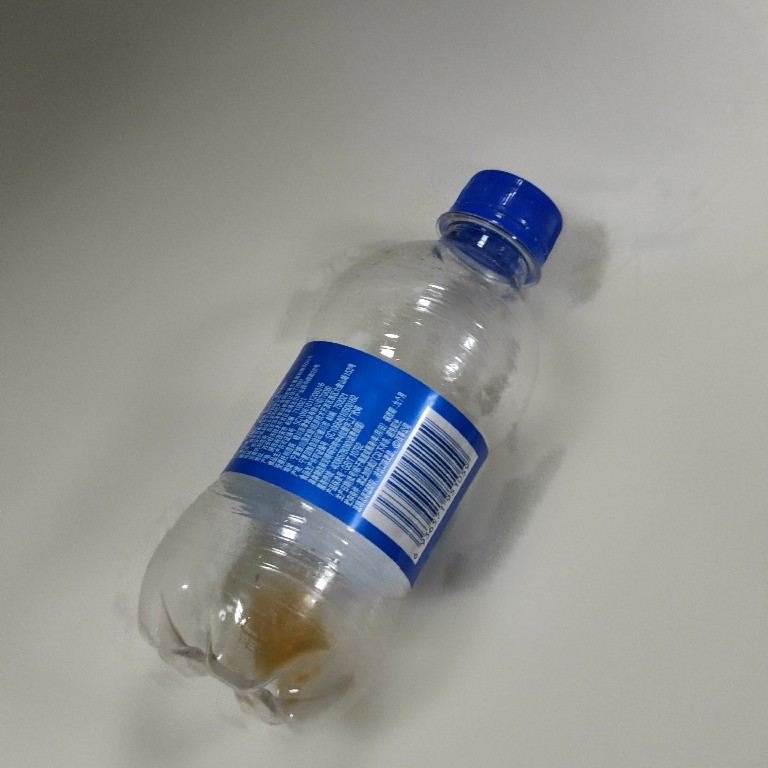bottle: (131, 167, 566, 731)
